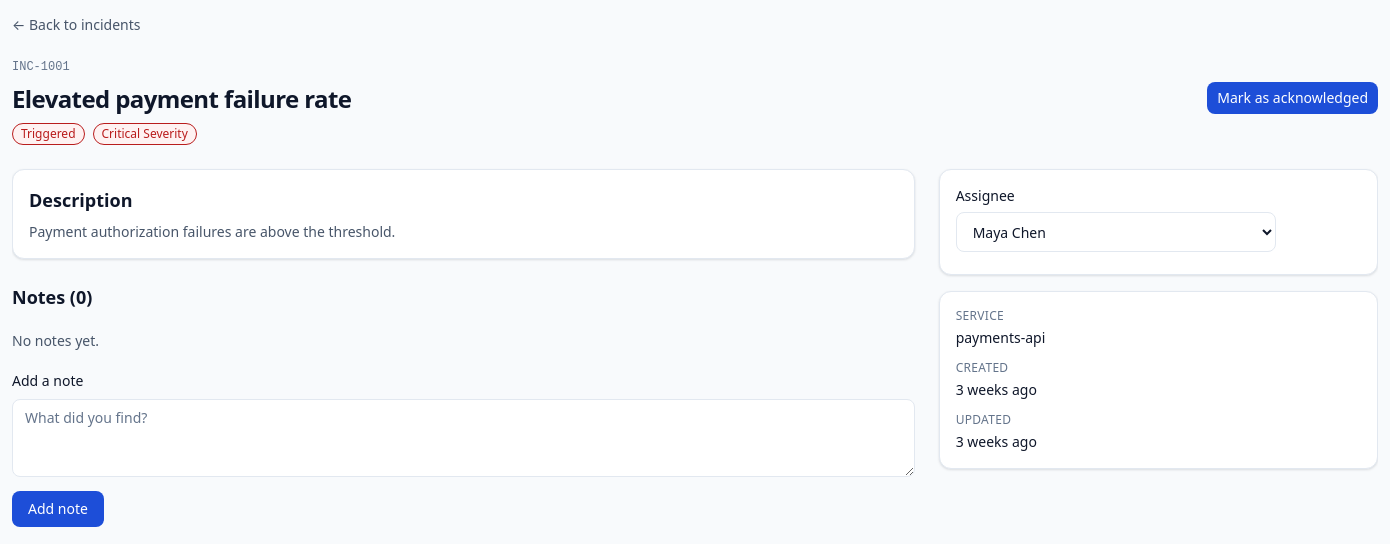
Test: IncidentDetailPage status updates › rolls back and surfaces the error when the server rejects the change
Click the button "Mark as acknowledged" at (1293, 98), box top-left (1207, 82), bottom-right (1378, 114)
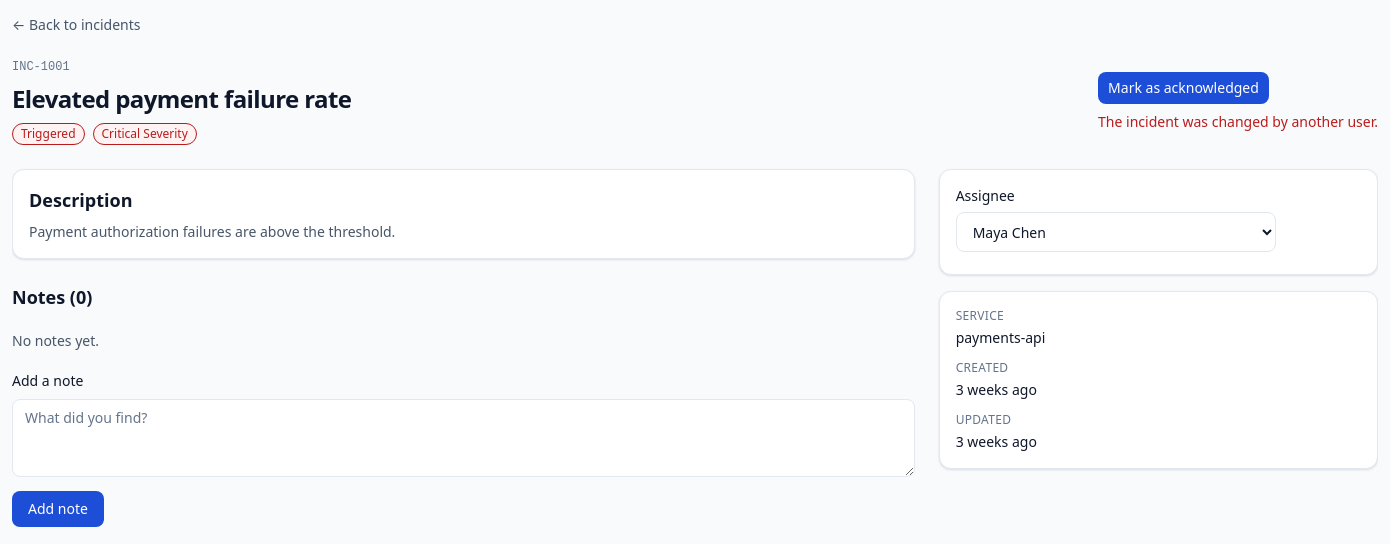
Expected: the text "triggered" is shown, top-left (12, 123), bottom-right (84, 145)
Expected: the text "The incident was changed by another user." is shown, top-left (1098, 112), bottom-right (1378, 131)
